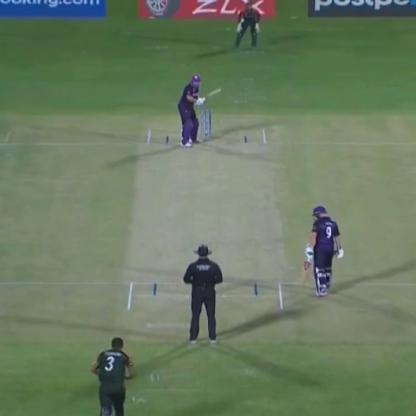bat: (195, 84, 232, 107), (292, 254, 314, 292)
pitch: (118, 126, 286, 329)
